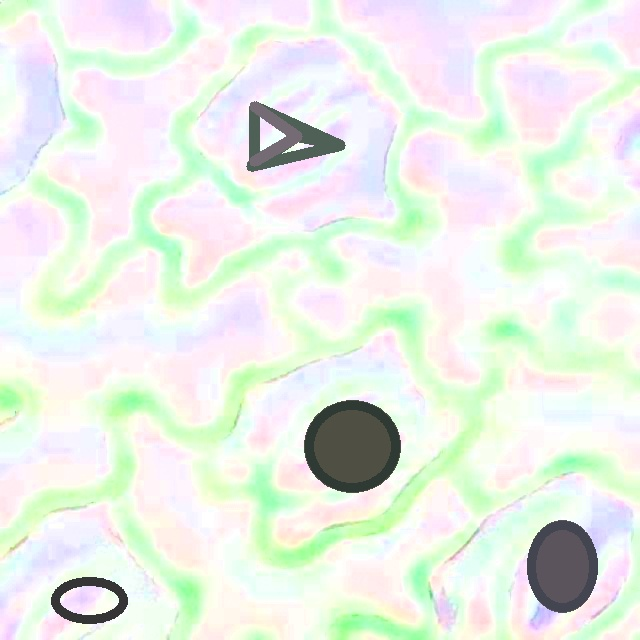open: (303, 401, 400, 492), (527, 519, 597, 612), (250, 101, 344, 170), (50, 576, 128, 623)
